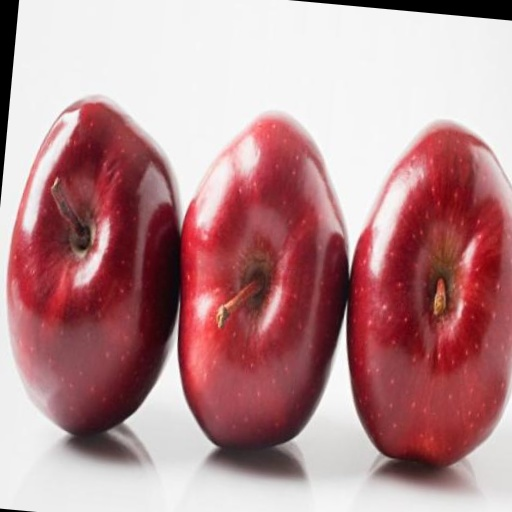fruit: (7, 99, 180, 434), (178, 115, 348, 448), (347, 123, 512, 465)
